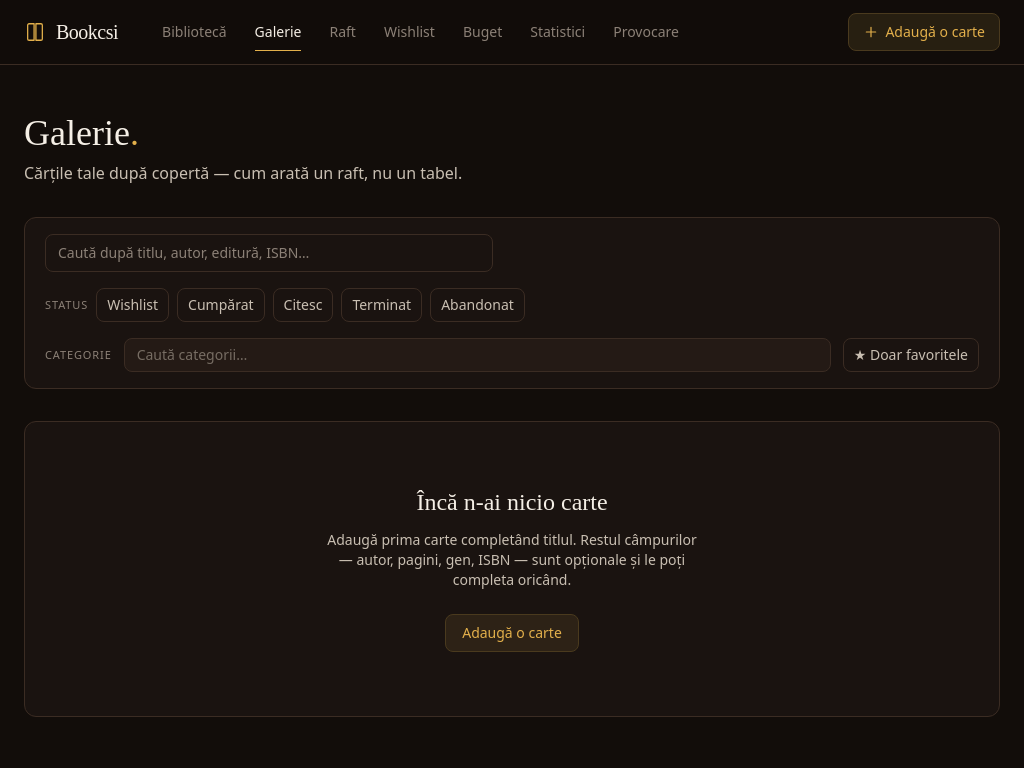
GalleryPage — the two empty states › blames the filters, not the library, when a filter matched nothing
Check: the text "Încă n-ai nicio carte" is shown, box top-left (416, 489), bottom-right (608, 515)
Click the button "Citesc".
click(303, 305)  # box top-left (273, 288), bottom-right (333, 322)
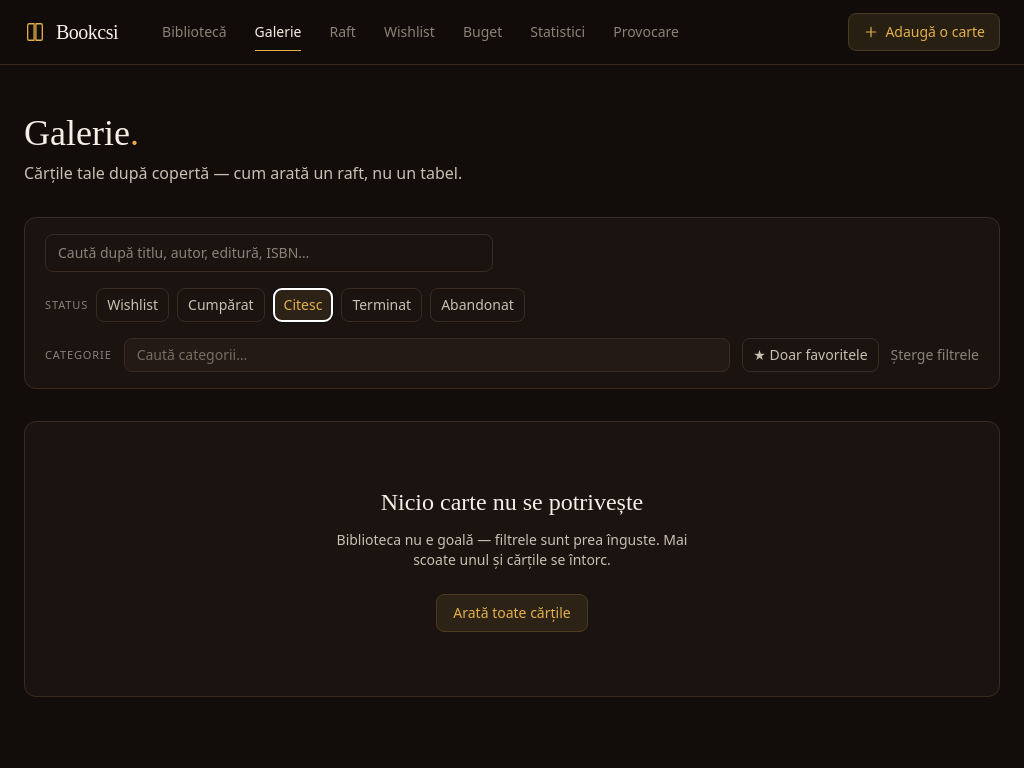
Check: the text "Nicio carte nu se potrivește" is shown, box top-left (381, 489), bottom-right (643, 515)
Check: the text "Încă n-ai nicio carte" is gone
